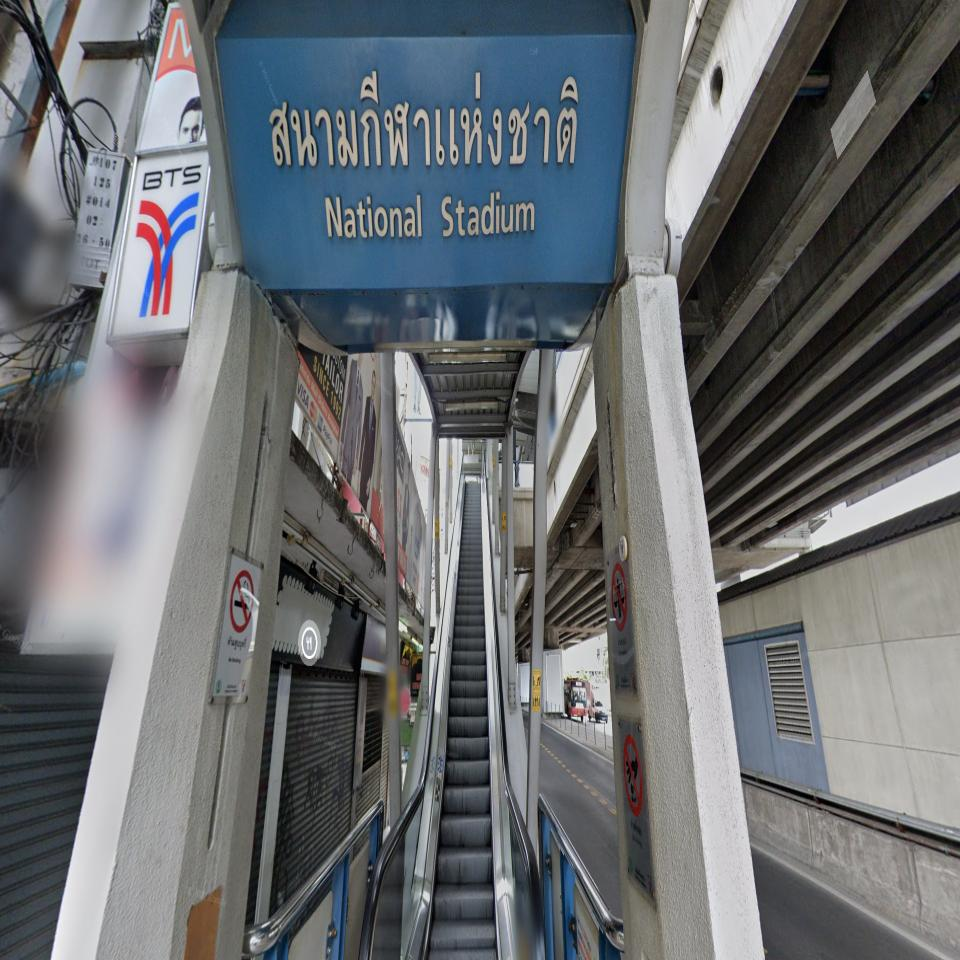signage: (106, 35, 638, 343), (214, 35, 638, 285)
